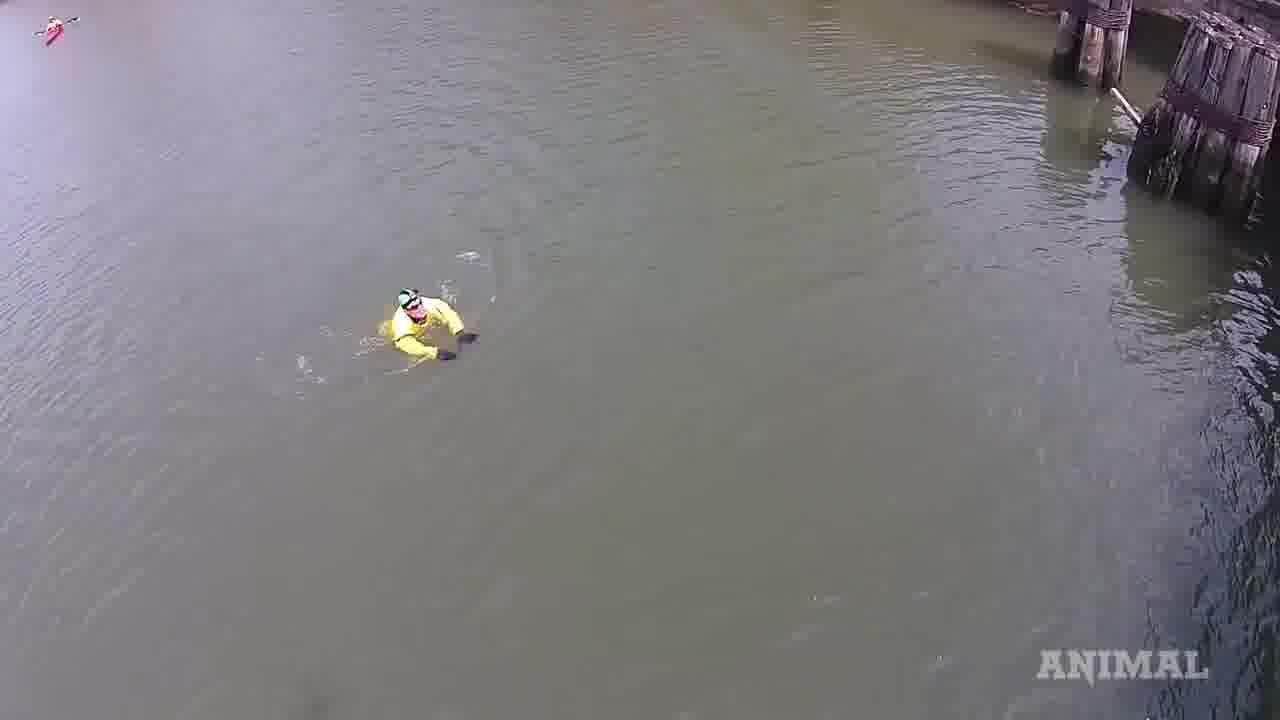human: (383, 269, 491, 375)
